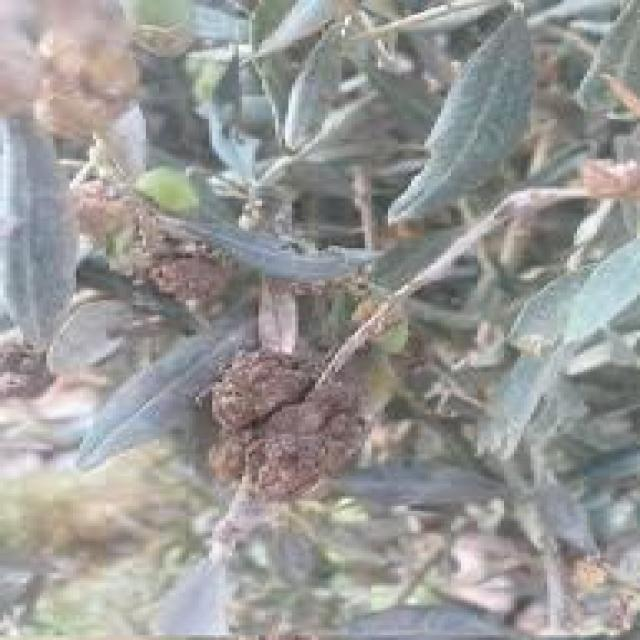Tuberculosis: (212, 347, 355, 496), (90, 228, 242, 310)
